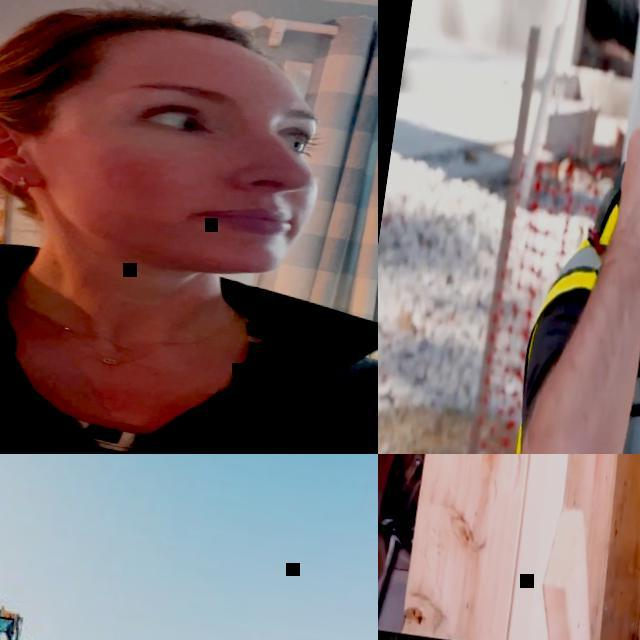no_helmet: (1, 0, 305, 86)
no_mask: (0, 116, 319, 285)
no_vest: (0, 267, 378, 454)
person: (0, 0, 378, 454), (492, 0, 640, 454), (378, 454, 504, 630)
vest: (492, 182, 640, 454)
